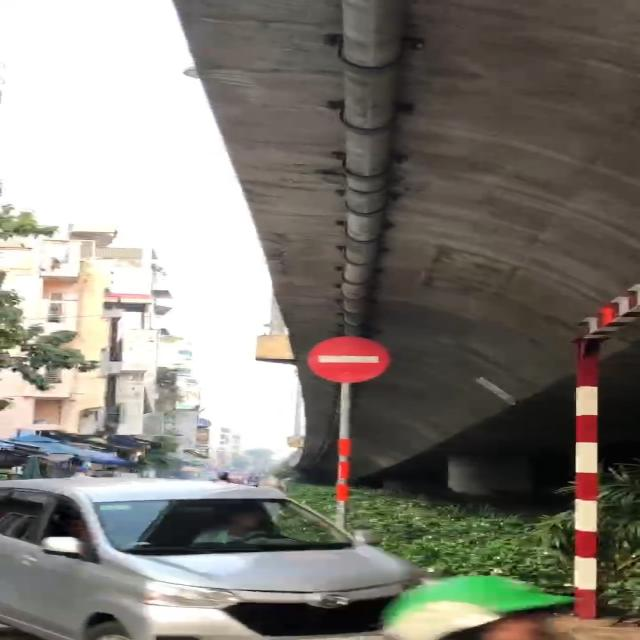Bien bao cam di nguoc chieu: (302, 334, 394, 388)
